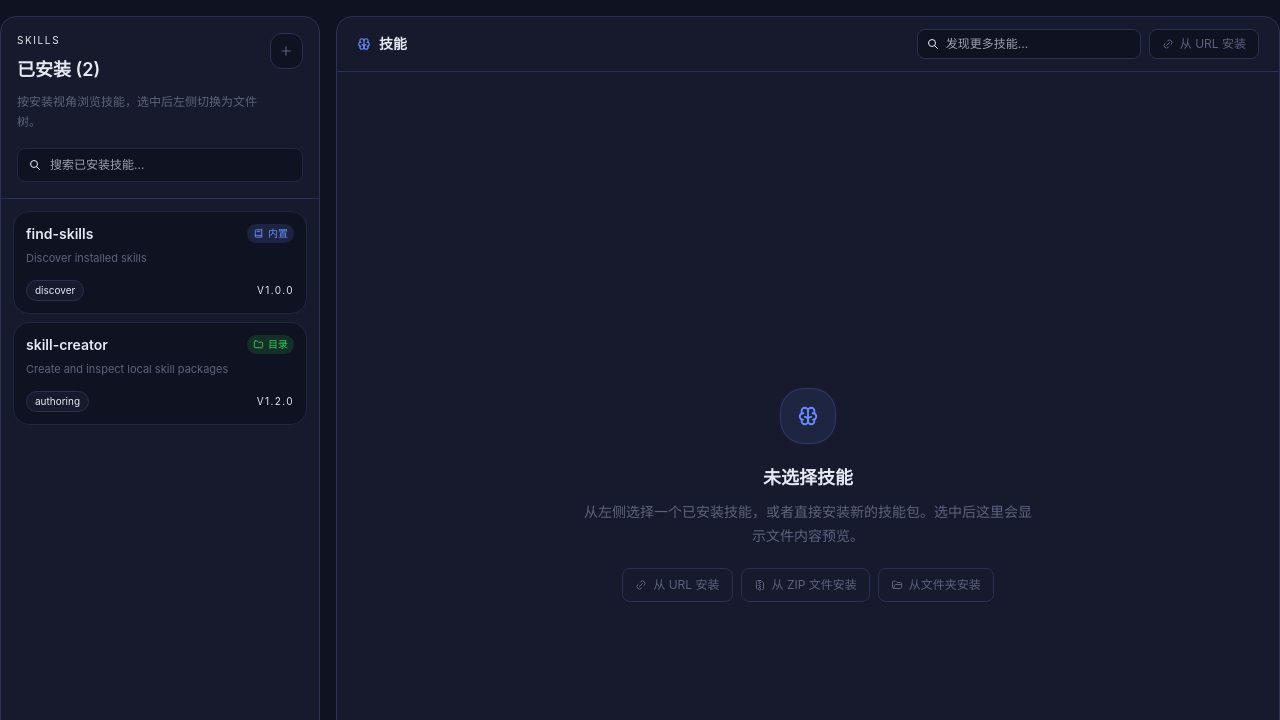
Skills and tools workbenches › keeps a discovery search box and re-queries skills from the backend
Expected: the heading "已安装 (2)" is shown, [17,59,100,80]
Type "creator" into the field named "搜索技能" at [1029, 44], box [917,29,1141,59]
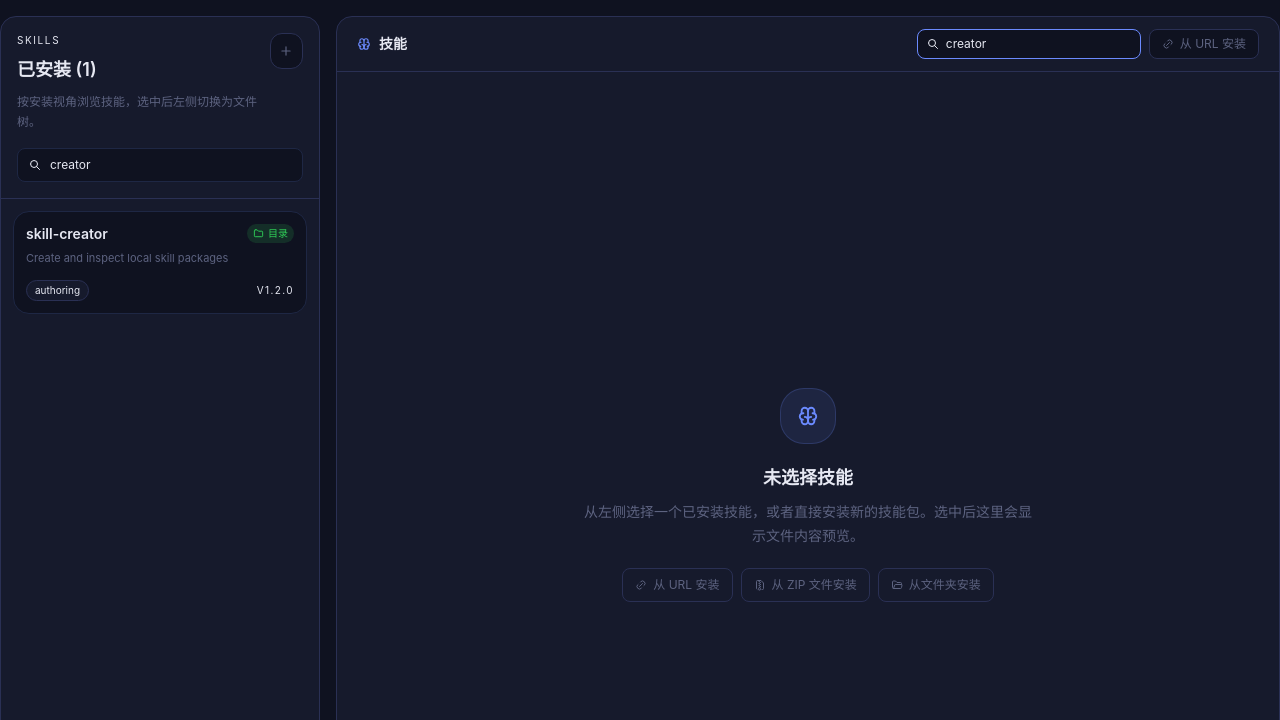
Expected: the text "skill-creator" is shown, [26,225,108,242]
Expected: the button "find-skills" is gone
